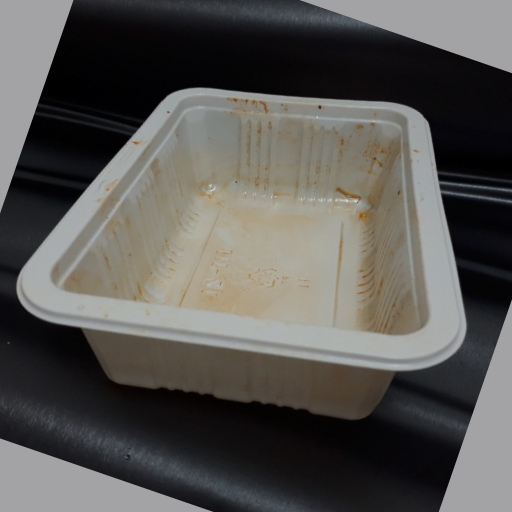Plastic_4: (14, 85, 467, 423)
